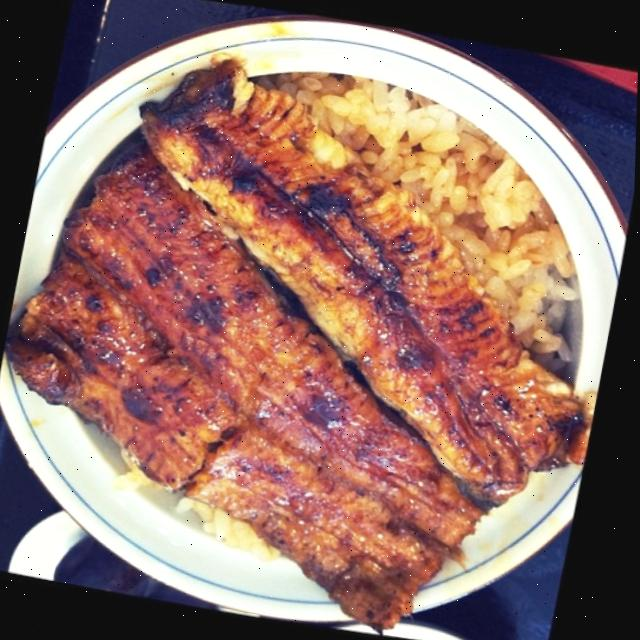熟制海鲜: (0, 6, 640, 640)
